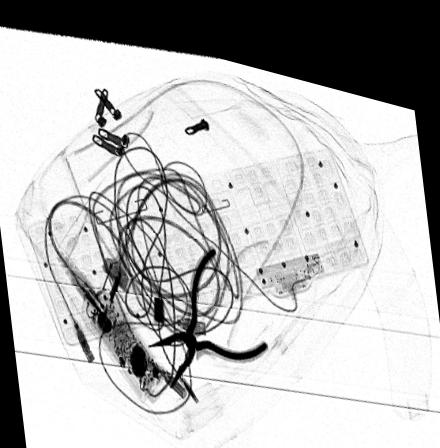Pliers: (147, 234, 268, 380)
